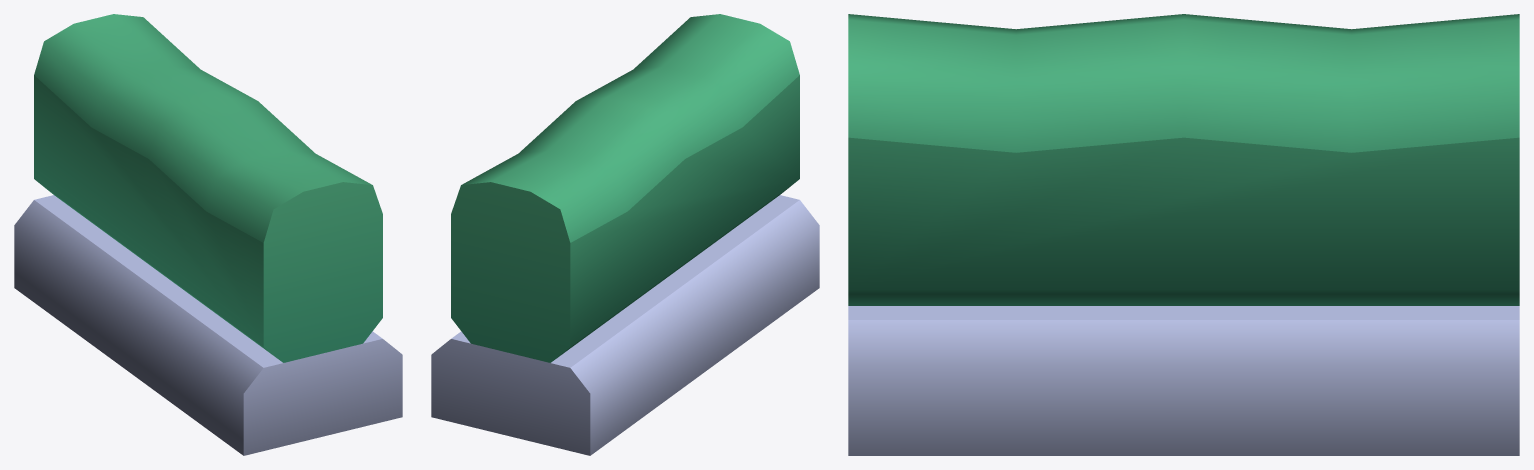
File: bush.glb
The picture shows the model from 3 angles, left to right: view 1: azimuth 30°, elevation 25°; view 2: azimuth 150°, elevation 25°; view 3: azimuth 270°, elevation 25°; orthographic projection. The views are drawn at different scales.
Visible parts, largest first — view 1: hedge-large; view 2: hedge-large; view 3: hedge-large.
Part boxes in pixels (x1=…): hedge-large: x1=14, y1=14, x2=402, y2=455; hedge-large: x1=431, y1=14, x2=819, y2=455; hedge-large: x1=848, y1=14, x2=1519, y2=455.
Size of the model in its own units: 0.4 by 0.6 by 1.
1 material, 1 textured.
